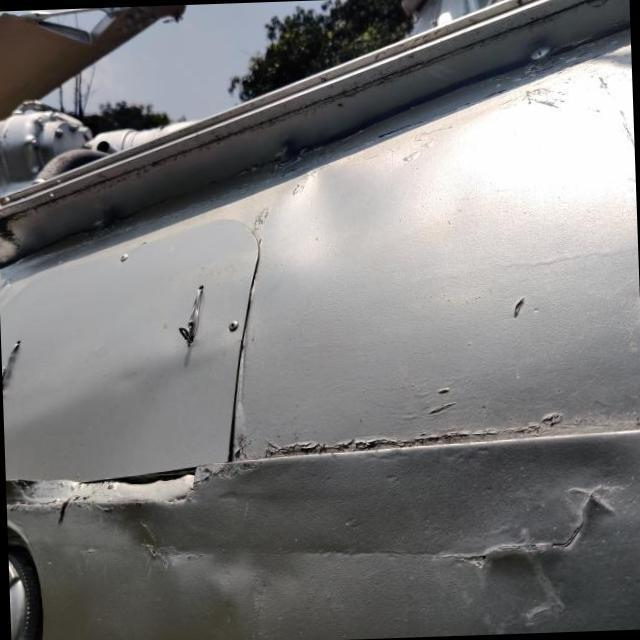Dent: (266, 140, 394, 284)
Rupture: (430, 472, 630, 584), (131, 515, 179, 574)
